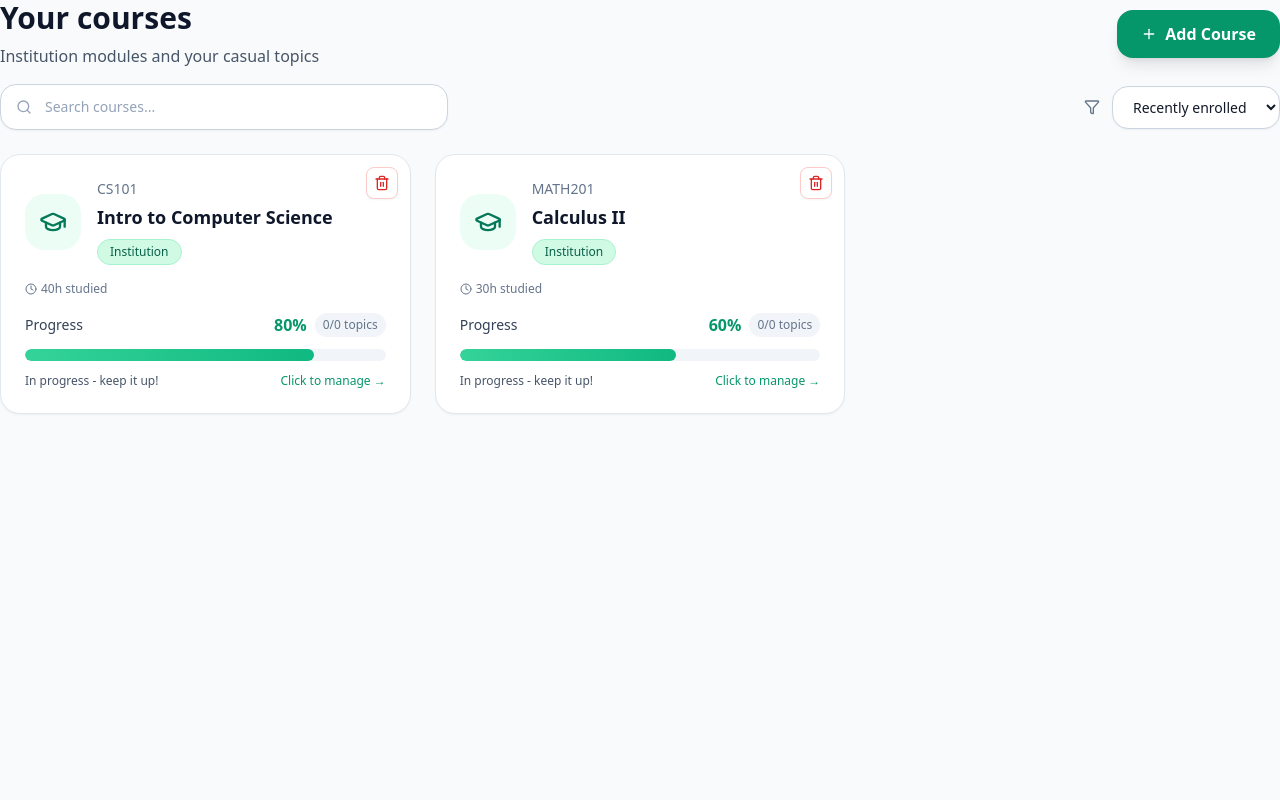
CoursesPage - Course Management › opens add course modal
Click the button "Add Course" at (1199, 34), box x1=1117 y1=10 x2=1279 y2=58
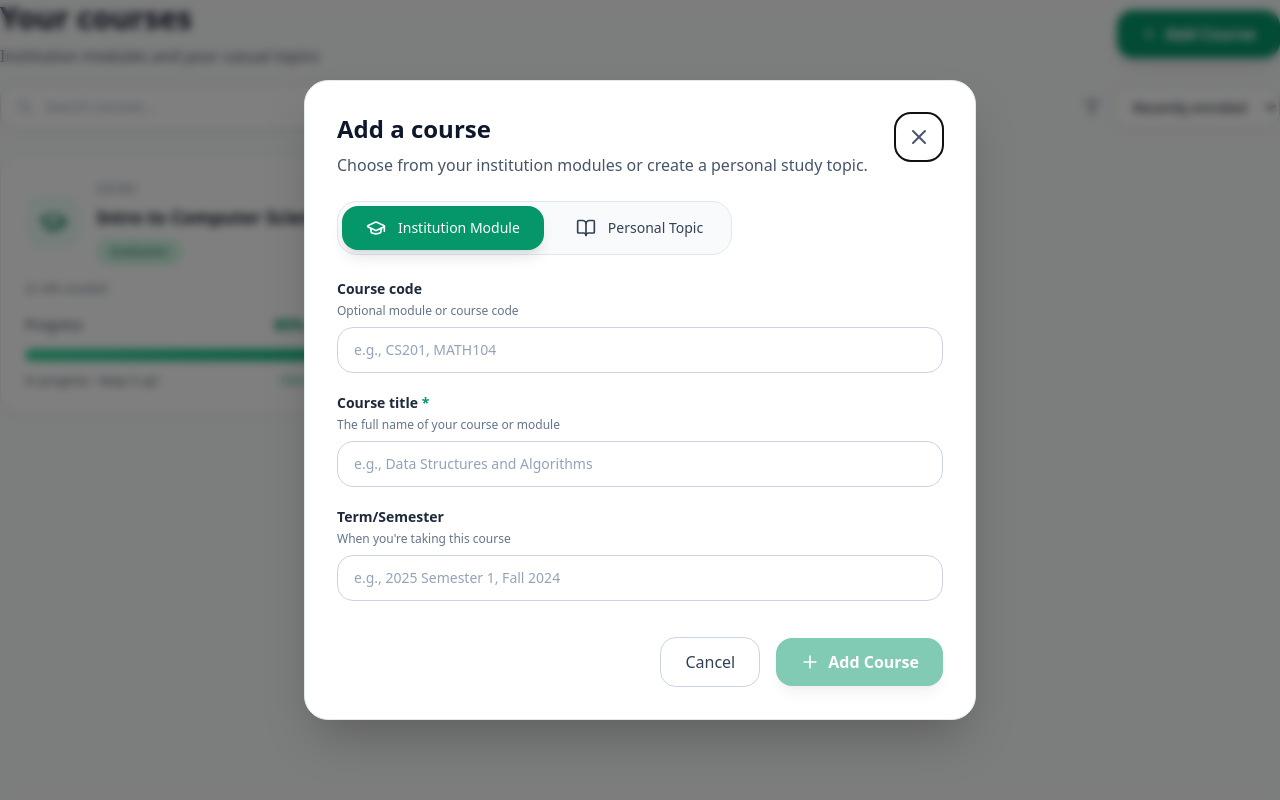
Check: the dialog is shown, box x1=304 y1=80 x2=976 y2=720
